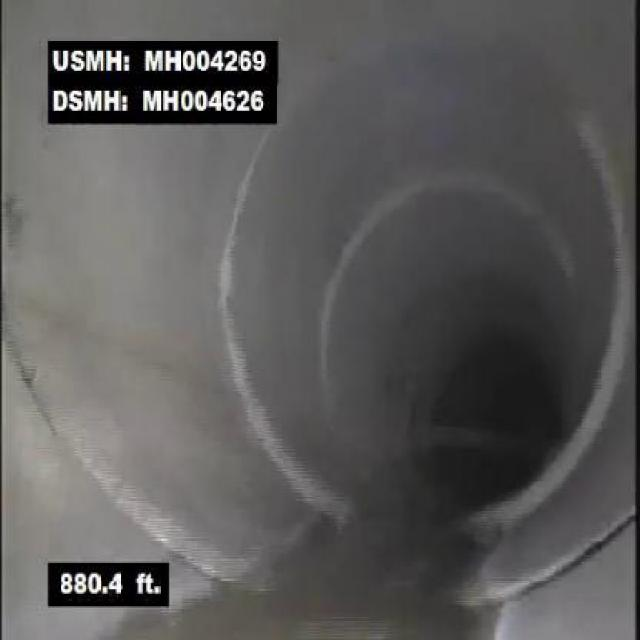Joint offset: (474, 97, 638, 548)
